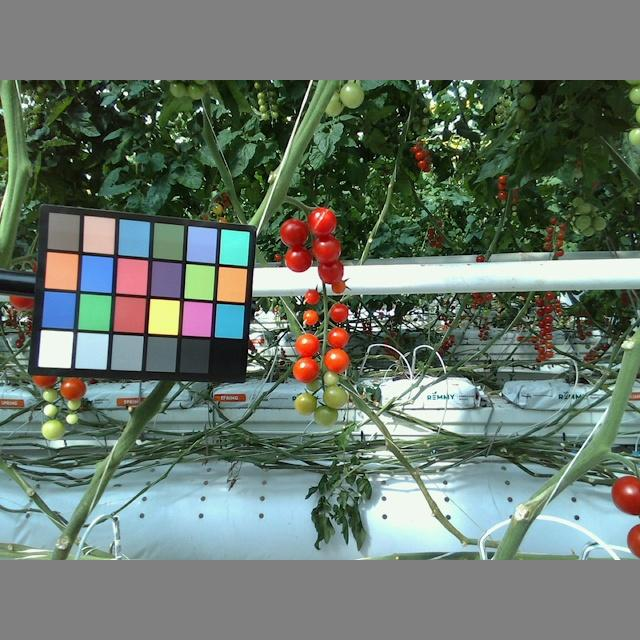green: (337, 81, 363, 110), (321, 386, 349, 409), (312, 403, 338, 427), (294, 392, 316, 417), (42, 419, 64, 441), (323, 370, 339, 385), (42, 388, 58, 402), (42, 405, 56, 418), (66, 411, 77, 425)
red: (277, 216, 308, 247), (306, 207, 336, 237), (311, 235, 342, 264), (292, 355, 321, 384), (283, 246, 313, 271), (317, 258, 344, 284), (294, 330, 318, 358), (57, 378, 88, 398), (324, 348, 350, 371), (325, 327, 349, 349), (328, 305, 349, 322), (304, 285, 319, 304), (301, 308, 315, 325)
